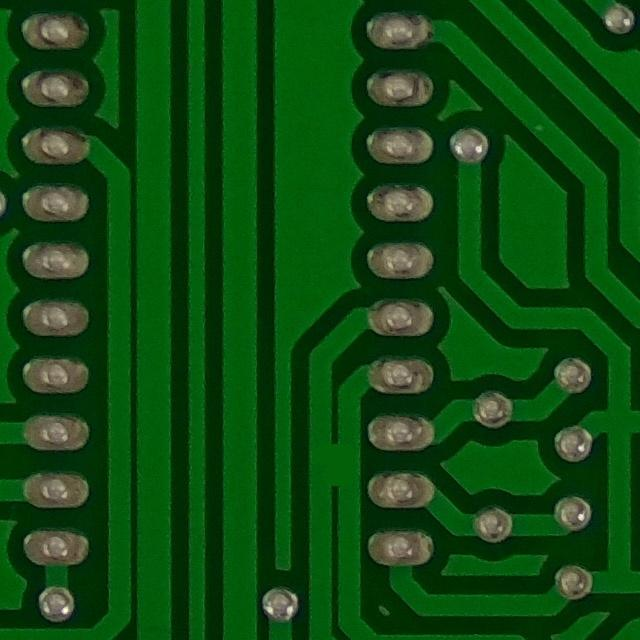short: (300, 432, 369, 504)
